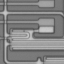dust: (22, 29, 26, 32)
